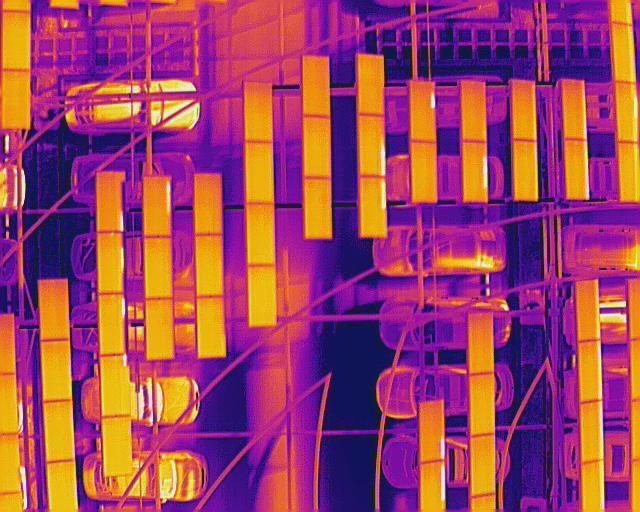Cell: (99, 354, 128, 417)
No-Anomaly: (42, 401, 74, 462), (40, 340, 72, 401), (38, 278, 69, 340), (194, 233, 223, 298), (145, 235, 174, 300), (246, 203, 275, 267), (248, 265, 277, 328), (304, 176, 332, 241), (195, 297, 224, 359), (245, 142, 273, 206), (301, 56, 330, 117), (1, 67, 30, 128), (244, 81, 273, 142), (193, 173, 222, 234), (144, 299, 173, 359), (2, 9, 30, 71), (303, 116, 331, 178), (468, 372, 495, 436), (460, 81, 487, 144), (102, 417, 130, 476), (469, 434, 495, 497), (358, 54, 384, 116), (467, 312, 493, 373), (611, 21, 636, 84), (562, 78, 587, 141), (411, 140, 436, 202), (575, 280, 600, 341), (617, 140, 640, 203), (513, 79, 536, 140), (95, 173, 119, 231), (514, 139, 536, 202), (580, 460, 604, 512)
Unclassified: (97, 294, 125, 355), (96, 232, 124, 293), (358, 112, 385, 175), (359, 176, 386, 237), (409, 81, 436, 142), (144, 177, 171, 238), (419, 400, 445, 461), (614, 81, 640, 142), (462, 140, 487, 202), (577, 341, 602, 402), (564, 138, 589, 199), (580, 403, 605, 462), (420, 461, 445, 512)
